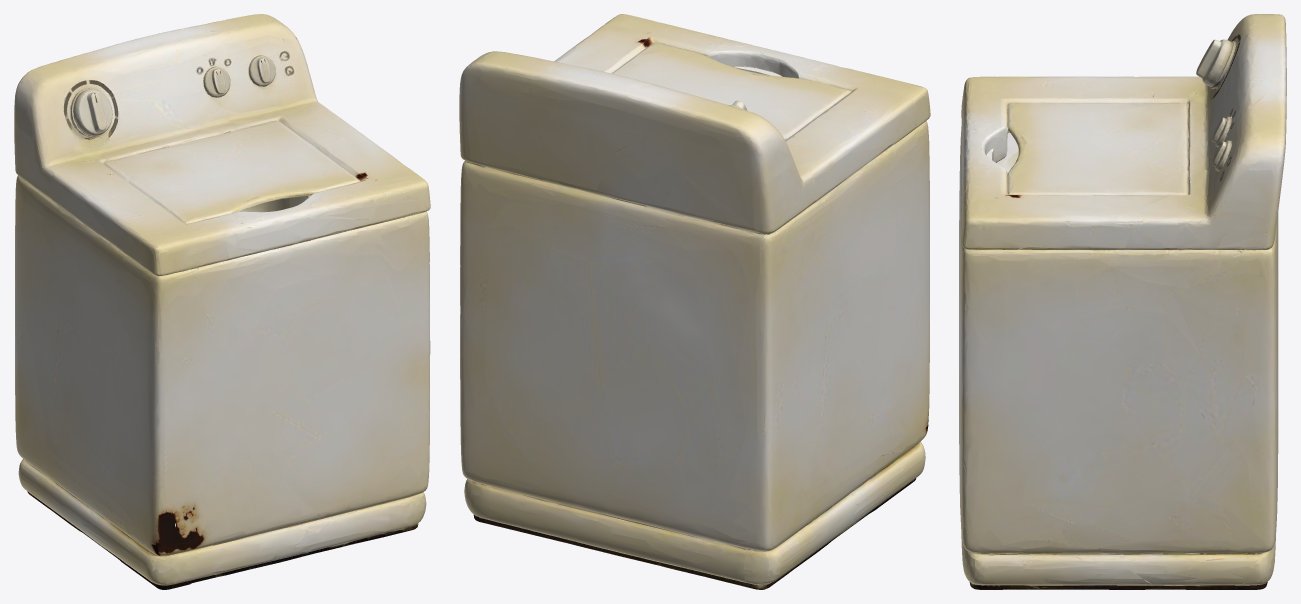
Rendered from washer.glb.
The picture shows the model from 3 angles, left to right: view 1: azimuth 30°, elevation 25°; view 2: azimuth 150°, elevation 25°; view 3: azimuth 270°, elevation 25°; orthographic projection. The views are drawn at different scales.
Bounding box in the file's own units: 1.33 × 1.9 × 1.25.
Materials: 1 (1 with a texture image).
